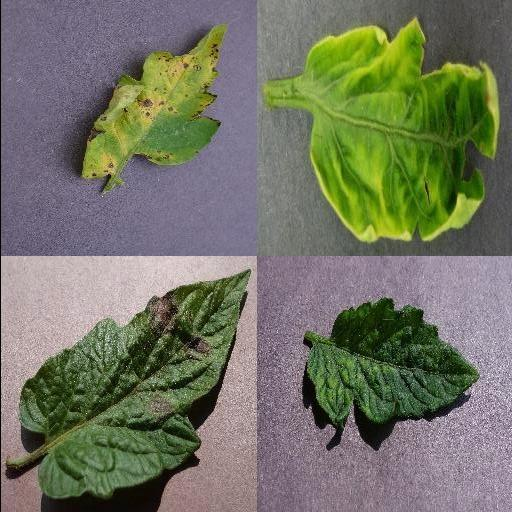Late Blight: (19, 270, 253, 502)
Mosaic Virus: (303, 295, 479, 433)
Septoria: (78, 23, 228, 181)
Yellow Leaf Curl Virus: (300, 18, 500, 242)
